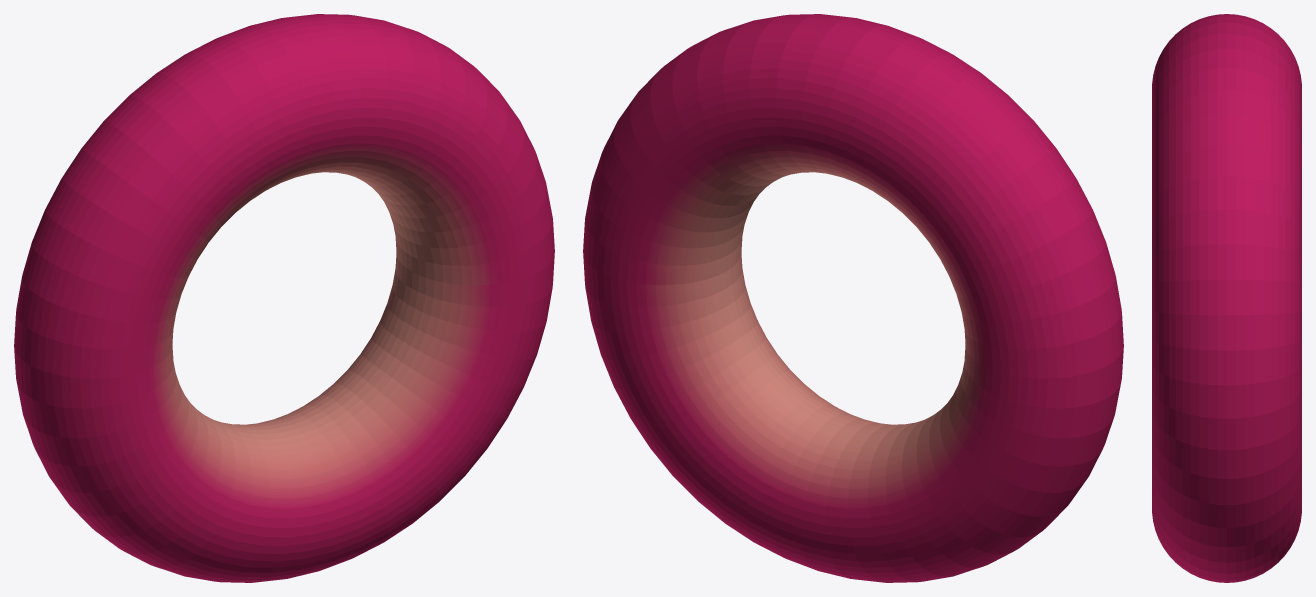
3 renders of one model, left to right at view 1: azimuth 30°, elevation 25°; view 2: azimuth 150°, elevation 25°; view 3: azimuth 270°, elevation 25°, orthographic. The views are drawn at different scales.
Parts seen in each view (by area): view 1: world; view 2: world; view 3: world.
Boxes of the visible parts, box(x1,y1,x2,y2) form: world: box(14, 14, 554, 582); world: box(583, 14, 1123, 582); world: box(1152, 14, 1301, 582).
Size of the model in its own units: 30.8 by 30.74 by 8.12.
